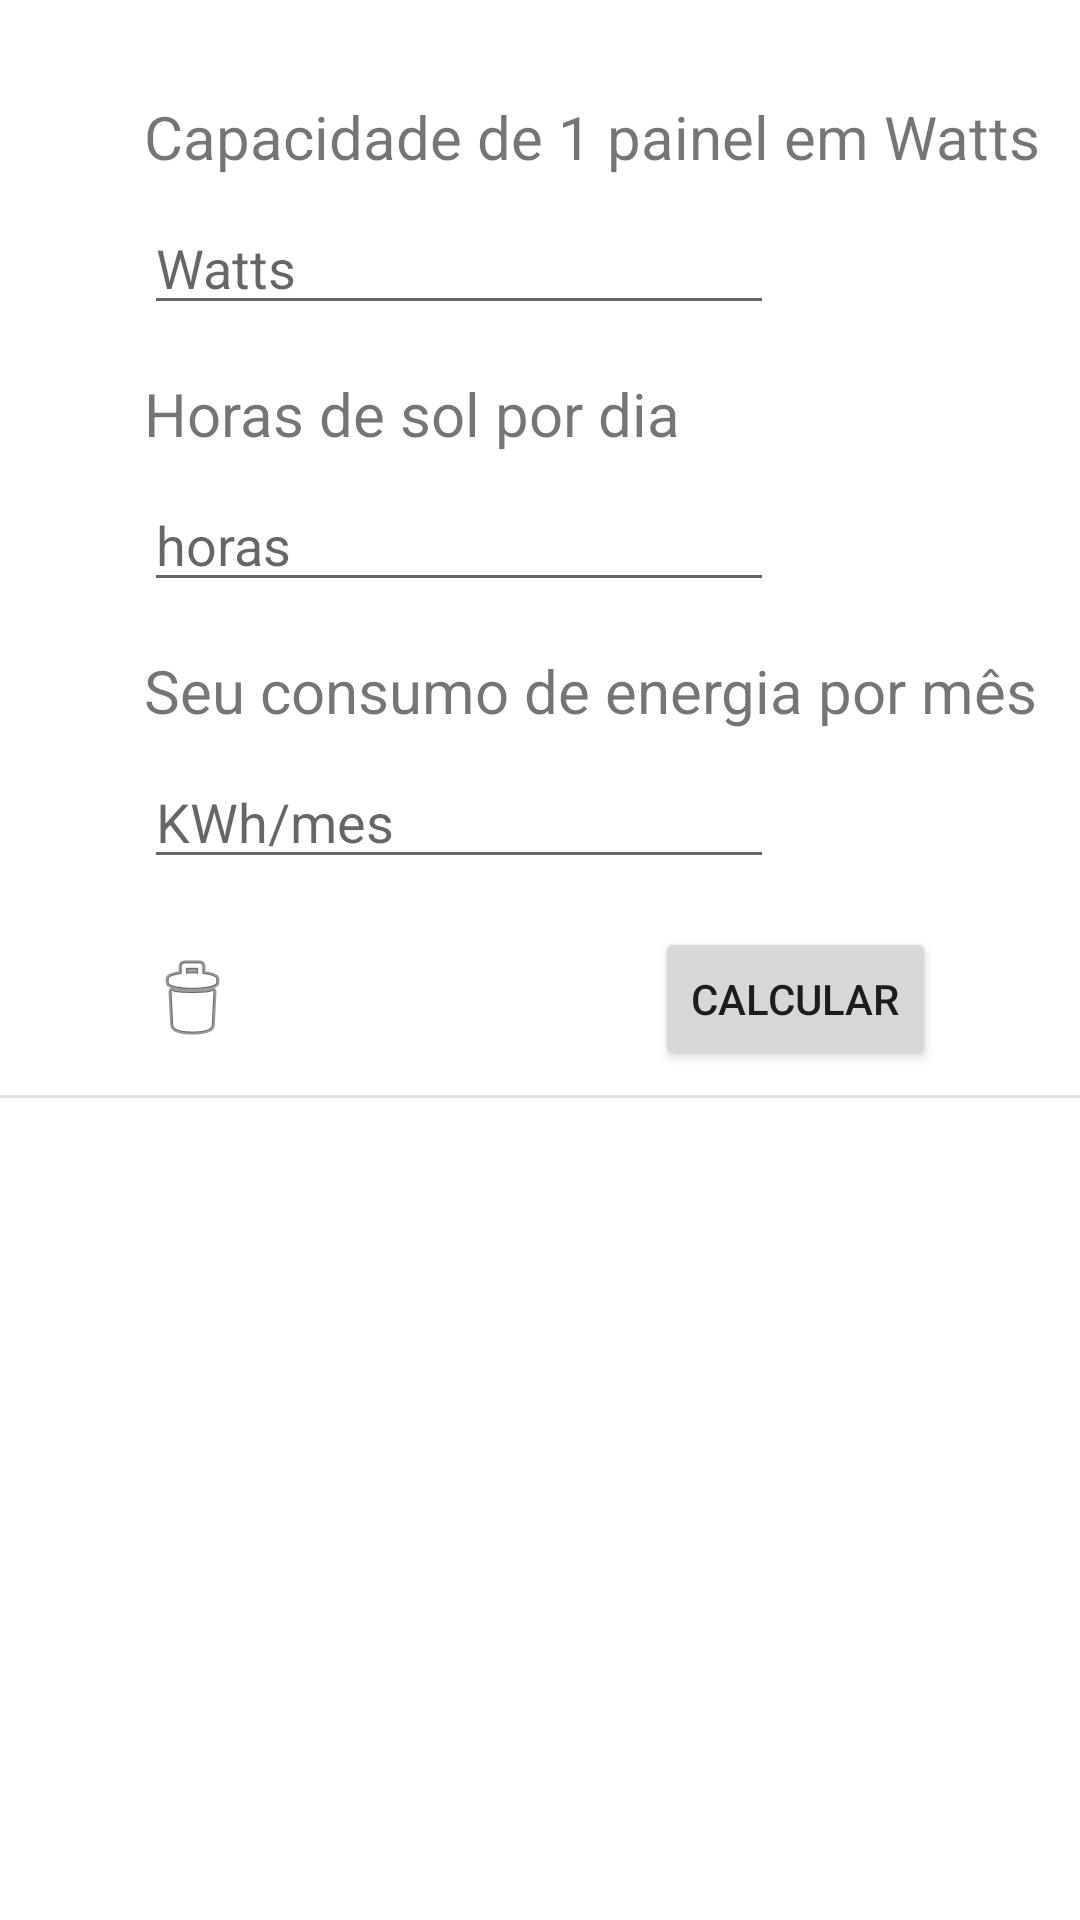

Point at icon controls on the screen. Image size 1080 x 1920, points as point (x, y).
delete: point (192, 997)
